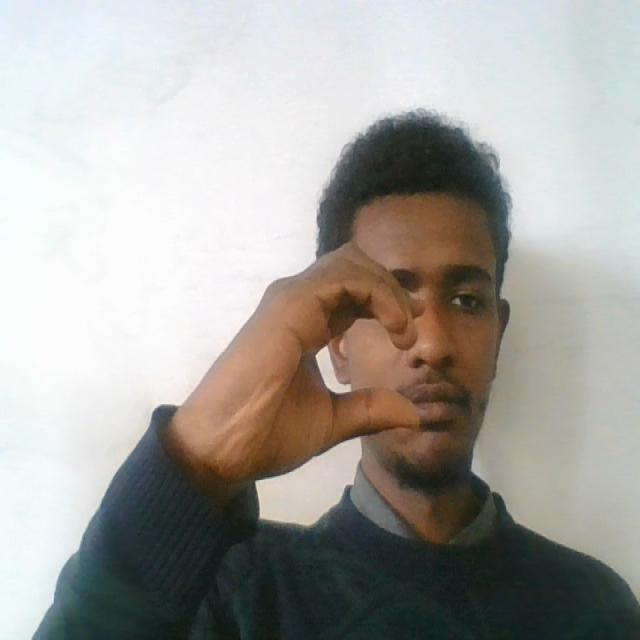no: (180, 239, 421, 470)
